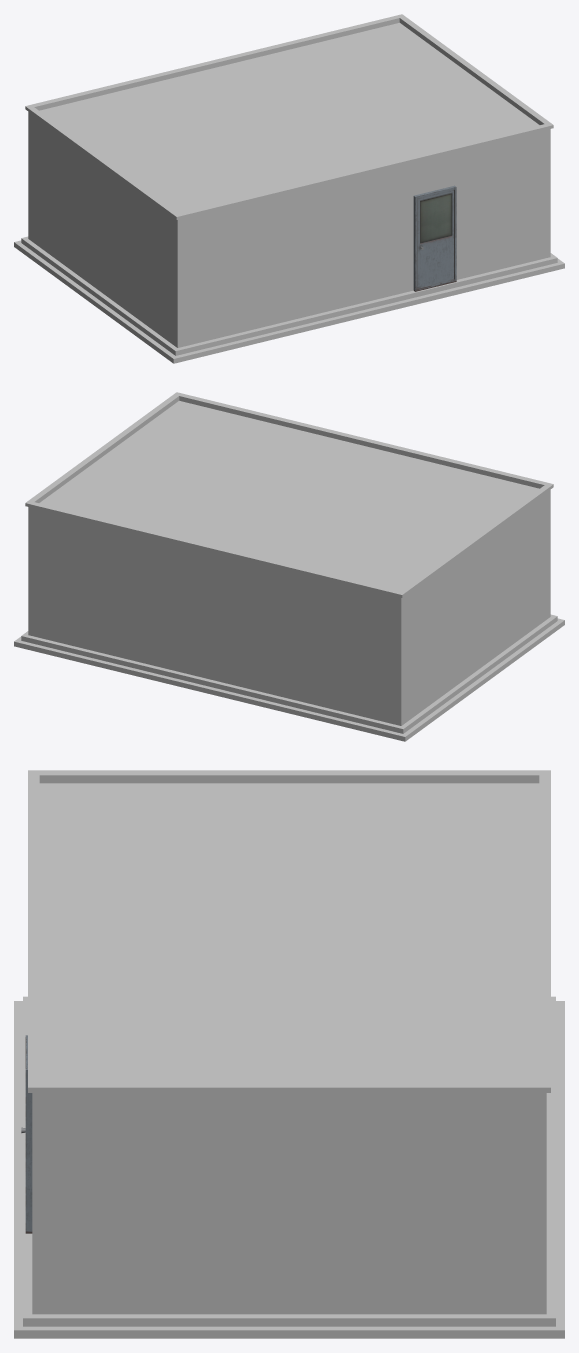
The model's file is jctRoofEntrA.fbx.
3 views of the same model, one above another, from view 1: azimuth 30°, elevation 25°; view 2: azimuth 150°, elevation 25°; view 3: azimuth 270°, elevation 25° (orthographic). The views are drawn at different scales.
Visible parts, largest first — view 1: jctRoofEntrA; view 2: jctRoofEntrA; view 3: jctRoofEntrA.
Boxes of the visible parts, x1,y1,x2,y2 form: jctRoofEntrA: (14, 14, 564, 363); jctRoofEntrA: (14, 392, 564, 741); jctRoofEntrA: (14, 770, 564, 1338).
Bounding box in the file's own units: 949 × 329 × 671.
